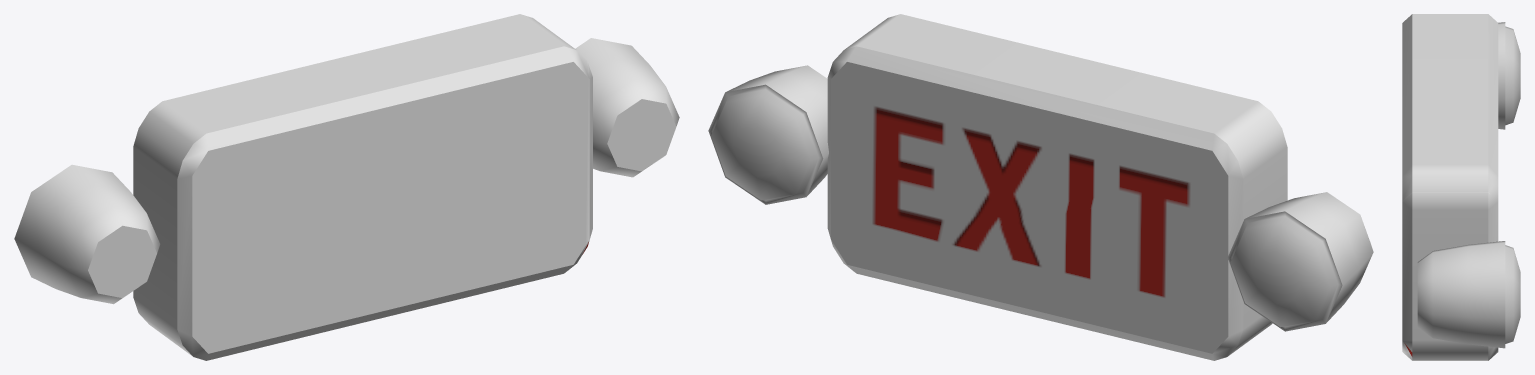
The model's file is ExitSign.fbx.
3 views of the same model, side by side, from view 1: azimuth 30°, elevation 25°; view 2: azimuth 150°, elevation 25°; view 3: azimuth 270°, elevation 25° (orthographic). The views are drawn at different scales.
Parts seen in each view (by area): view 1: pCube3; view 2: pCube3; view 3: pCube3.
Boxes of the visible parts, bbox=[...] form: pCube3: bbox=[14, 14, 679, 360]; pCube3: bbox=[708, 14, 1373, 360]; pCube3: bbox=[1402, 14, 1520, 360].
Size of the model in its own units: 2.65 by 0.9074 by 0.4949.
